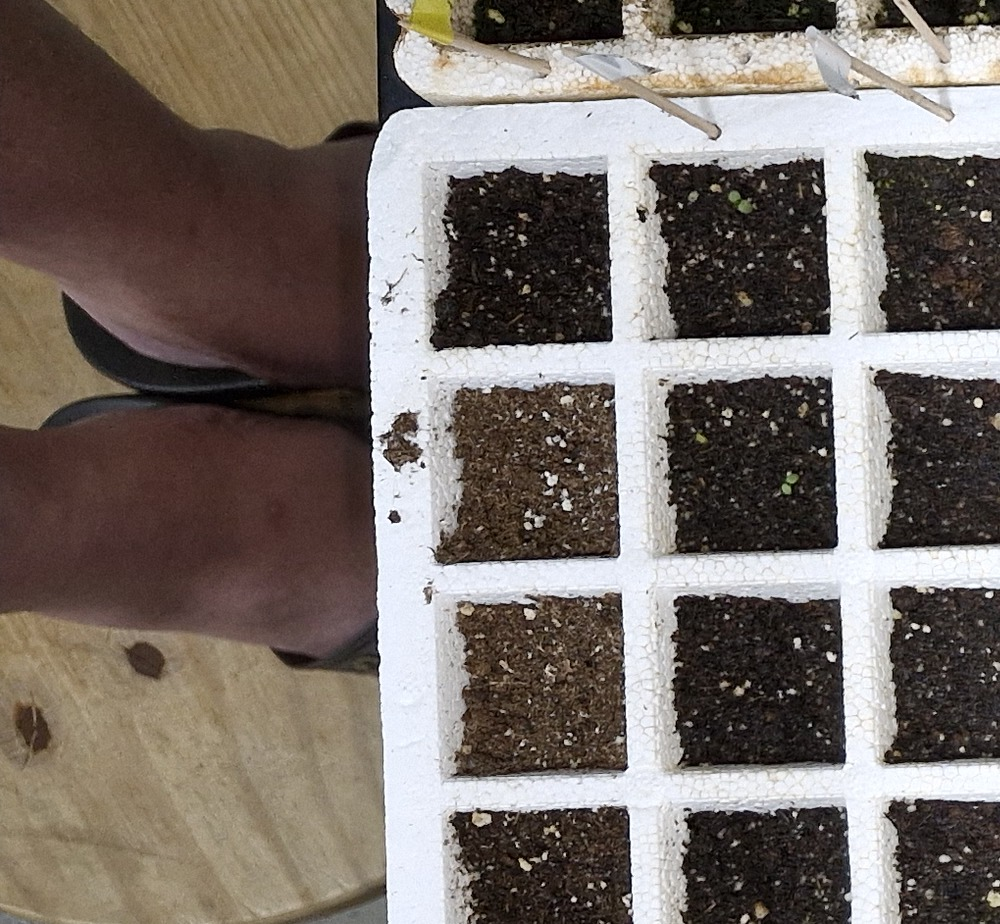Folha: (739, 201, 753, 214), (728, 191, 740, 203), (785, 474, 798, 483), (782, 484, 792, 494)
Germinacao: (726, 190, 753, 213), (782, 473, 799, 495)
